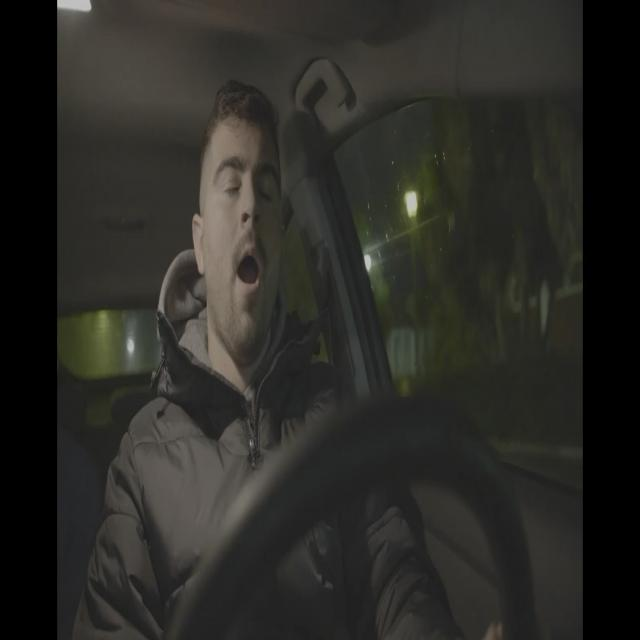Eye-Close: (257, 186, 280, 204), (222, 181, 244, 197)
Yawning: (233, 246, 264, 292)
